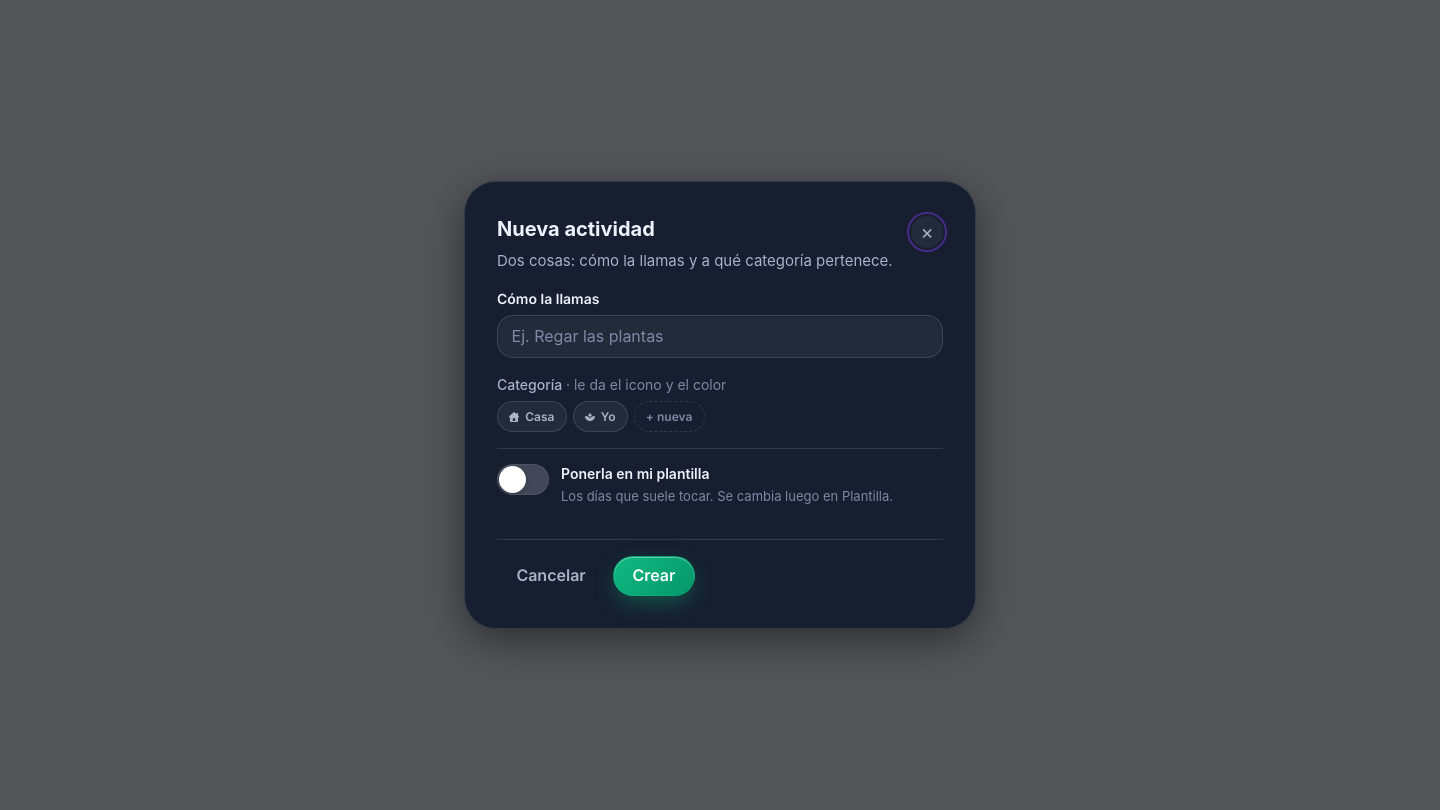
Scenario: VidaActivitySheet › «+ nueva» crea la categoría, la deja elegida y conserva el nombre (criterio 14)
In the field labelled "Cómo la llamas": (720, 336) [497, 315, 943, 358], type "Regar las plantas"
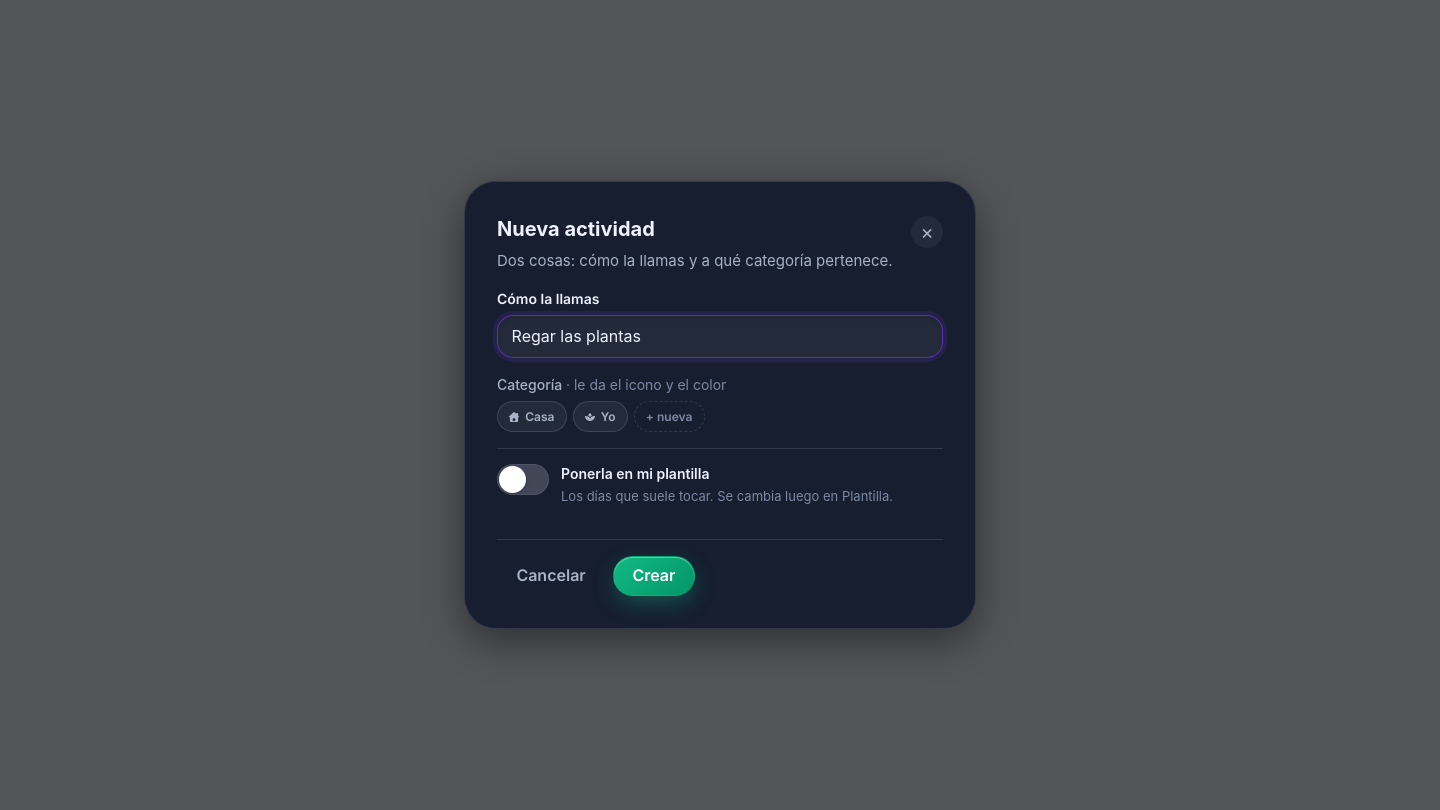
Click the button "+ nueva": (669, 417) [634, 401, 705, 432]
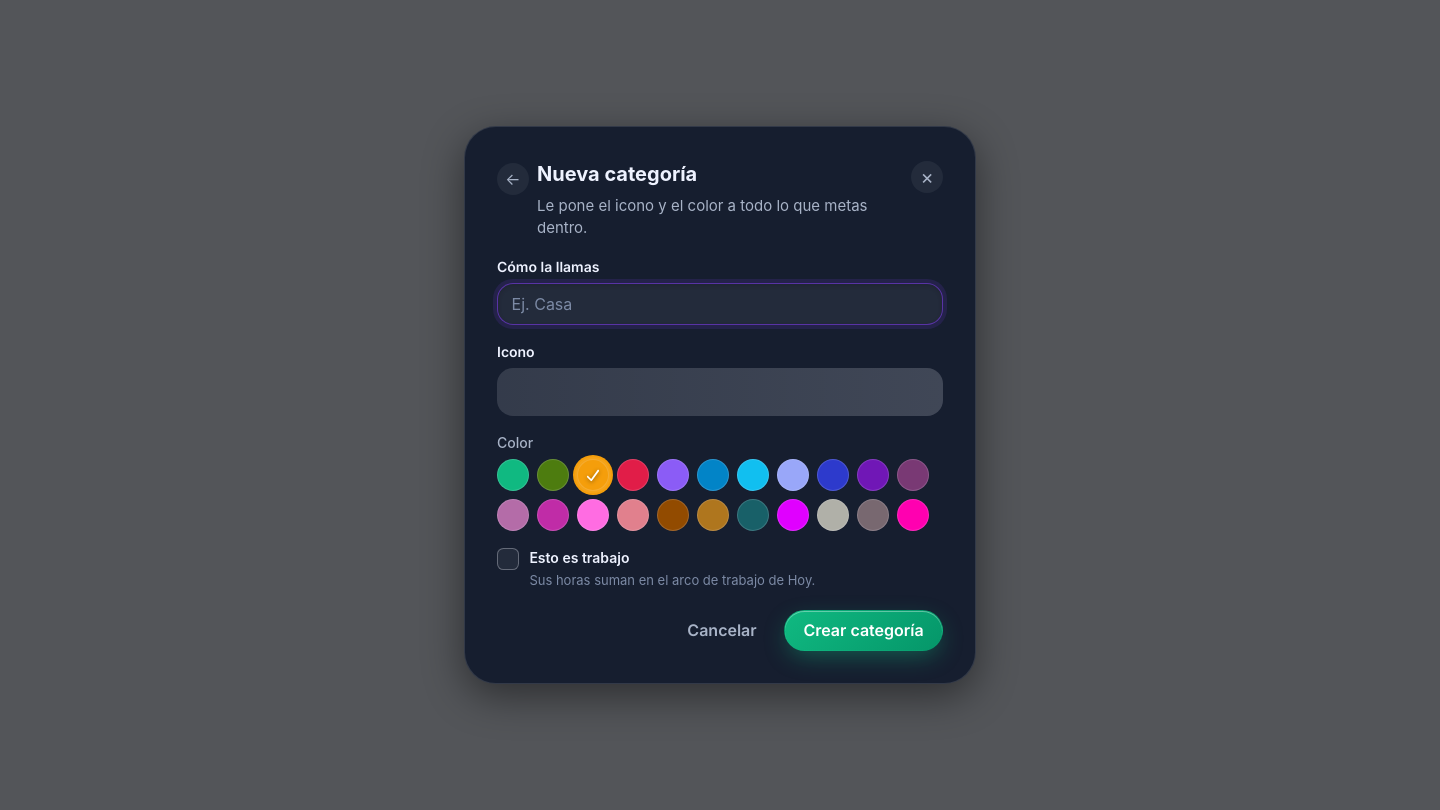
Result: the heading "Nueva categoría" is shown at [537, 162, 697, 186]
Result: the element named "Color de la categoría" is shown at [497, 458, 943, 530]
Result: the number of radio buttons is 22
In the field labelled "Cómo la llamas": (720, 304) [497, 283, 943, 325], type "Plantas"
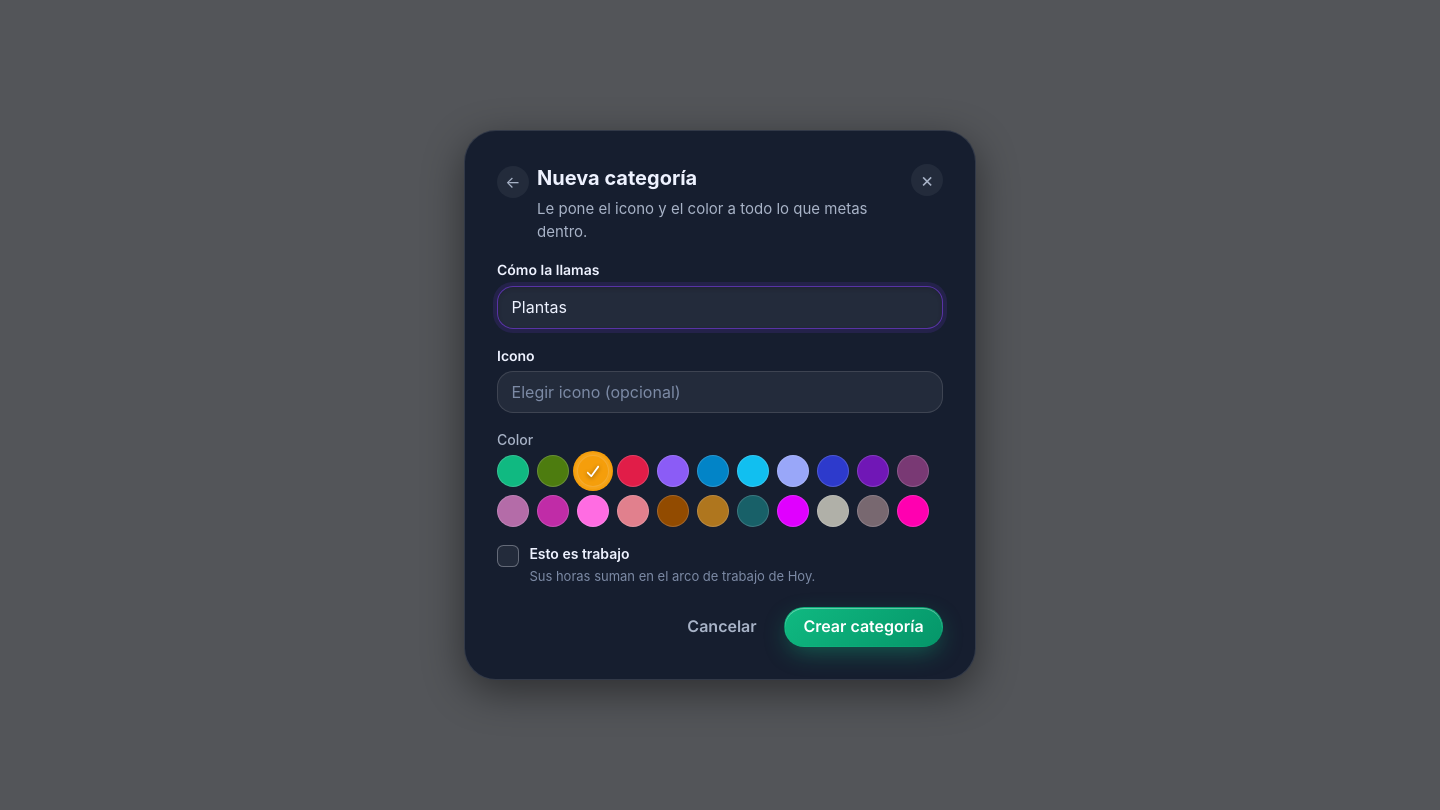
Click the radio button named "Menta": (513, 471) [497, 455, 529, 487]
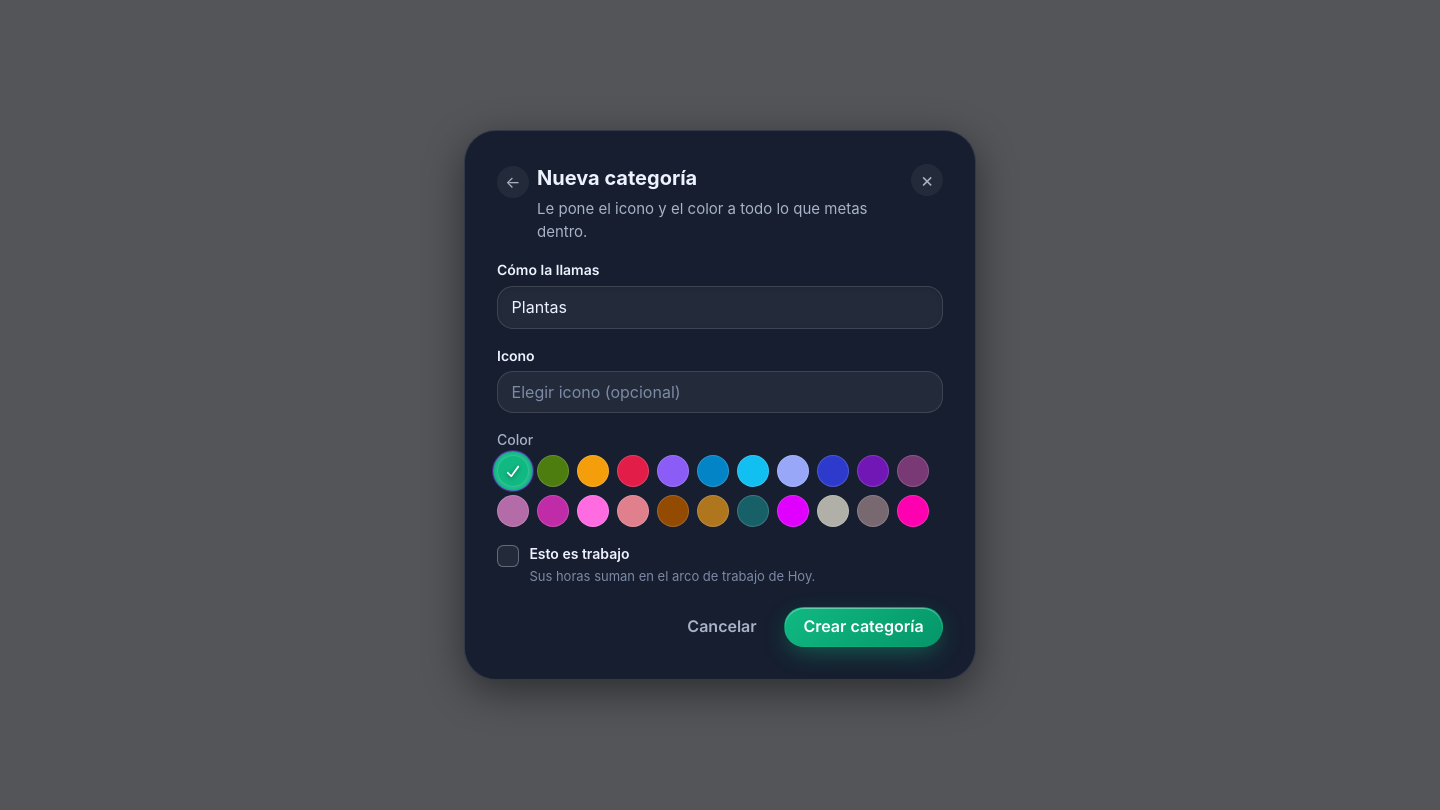
Click the checkbox labelled "Esto es trabajo": (579, 554) [529, 545, 629, 562]
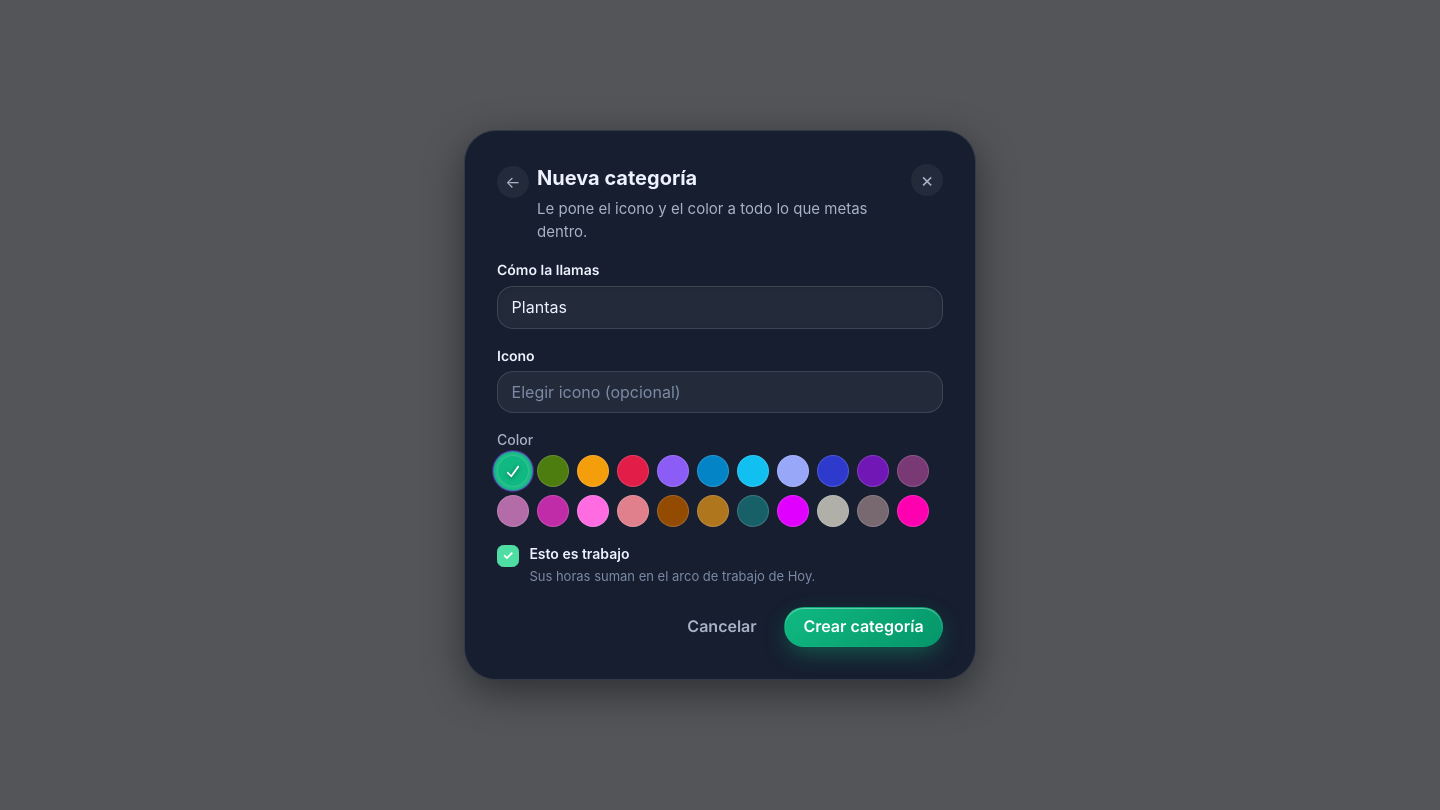
Click the button "Crear categoría": (864, 627) [784, 607, 943, 647]
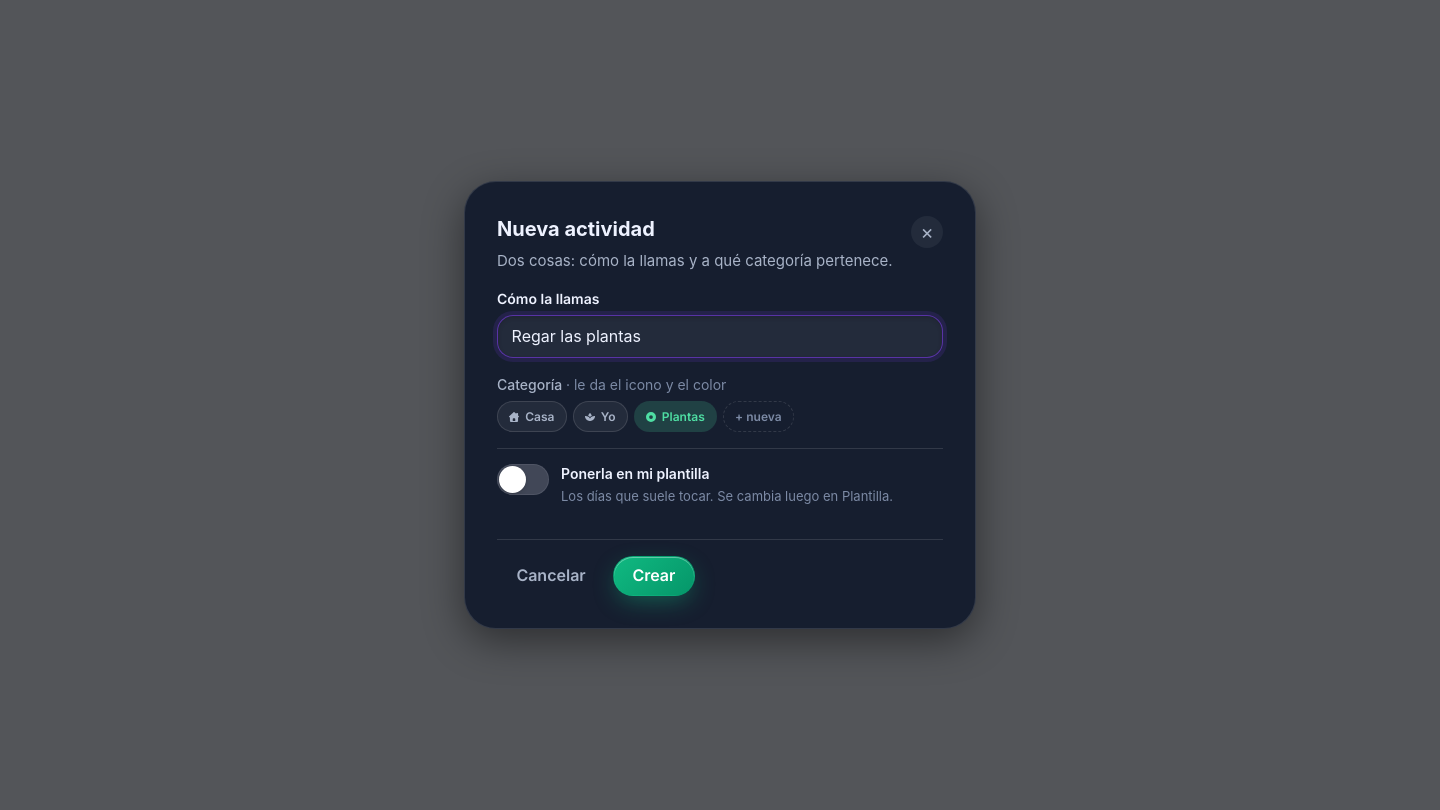
Result: the field labelled "Cómo la llamas" holds "Regar las plantas" at [497, 315, 943, 358]
